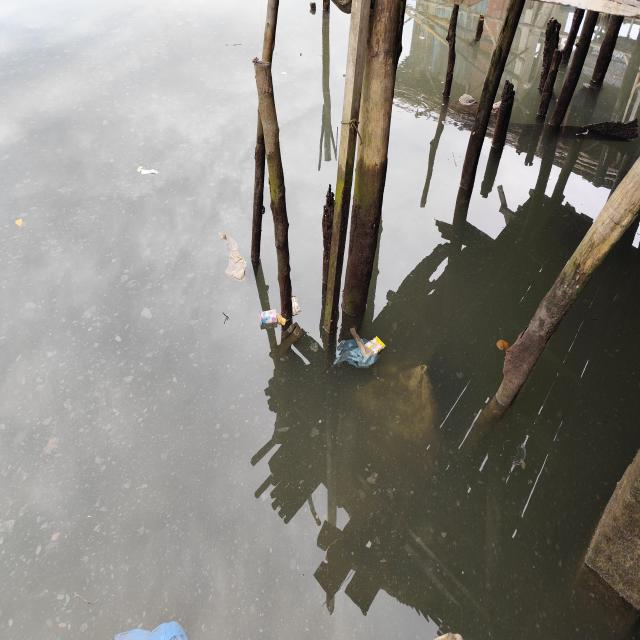Bungkus Makanan: (363, 337, 387, 356)
Kantong Plastik: (334, 339, 379, 371), (219, 231, 247, 282), (115, 623, 189, 640)
